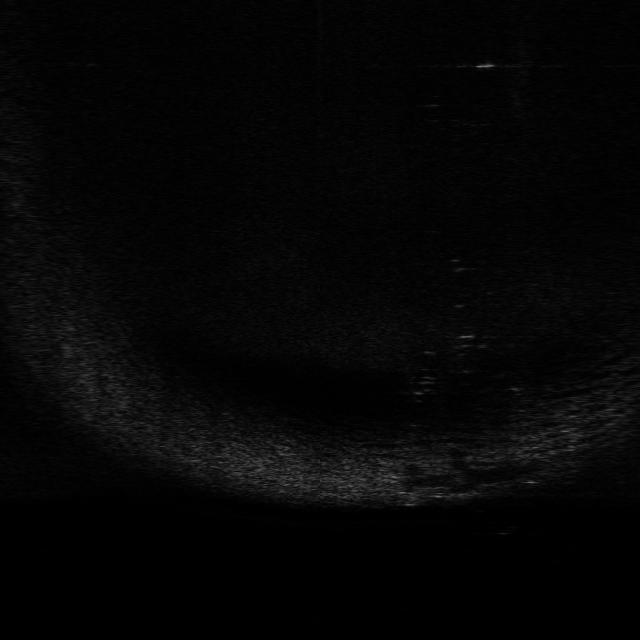plane: (399, 482, 498, 508)
